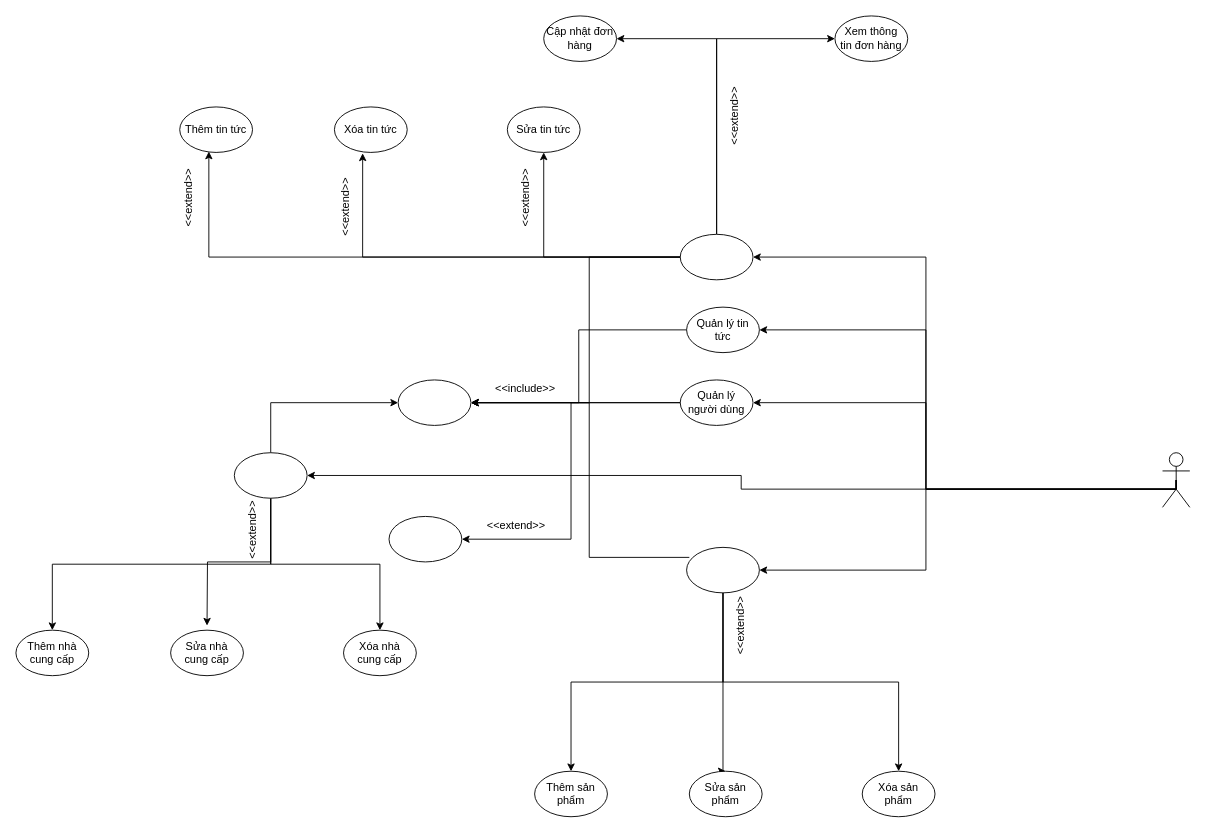
Some shapes in this 1223 by 833 pixel diagram are drawn without their labels. Each missing label, with the centre of its shape:
"Quàn lý đơn hàng" goes at point 716,256.
"Quản lý nhà cung cấp" goes at point 270,475.
"Quản lý sản phẩm" goes at point 722,569.
"Quản trị viên" goes at point 1176,479.
"Xem thông tin người dùng" goes at point 425,539.
"Đăng nhập" goes at point 434,402.
